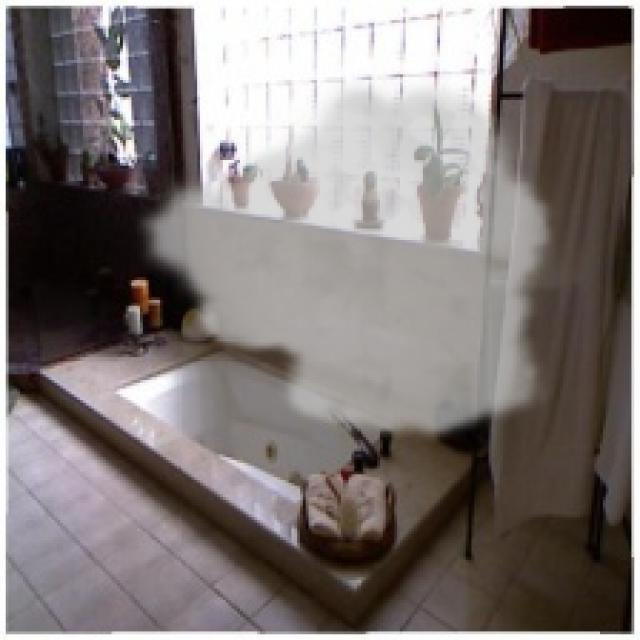Smoke: (132, 71, 557, 443)
